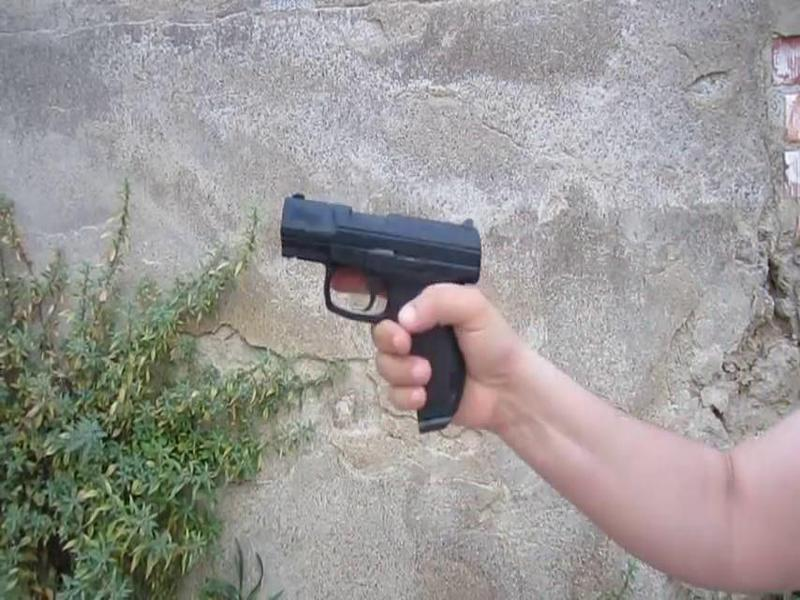Pistola: (253, 186, 474, 455)
